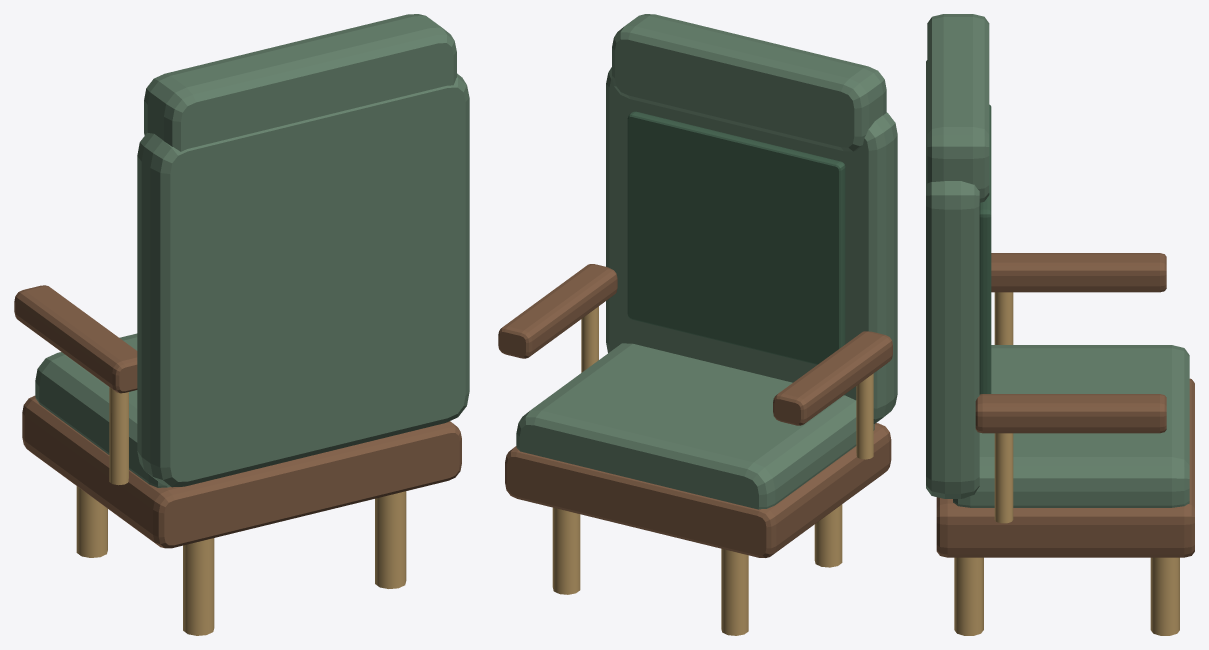
Rendered from seat_cafe.glb.
3 renders of one model, left to right at view 1: azimuth 30°, elevation 25°; view 2: azimuth 150°, elevation 25°; view 3: azimuth 270°, elevation 25°, orthographic. The views are drawn at different scales.
Visible parts, largest first — view 1: Upholstered backrest, Seat frame, Headrest, Tapered leg (×3), Armrest, Seat cushion, Arm support; view 2: Backrest inset, Seat cushion, Upholstered backrest, Headrest, Seat frame, Armrest (×2), Tapered leg (×3), Arm support (×2); view 3: Seat cushion, Upholstered backrest, Armrest (×2), Seat frame, Headrest, Tapered leg (×2), Arm support (×2), Backrest inset.
Boxes of the visible parts, x1,y1,x2,y2 form: Upholstered backrest: (137,73,469,487); Seat frame: (22,395,461,548); Headrest: (144,14,456,151); Tapered leg (×3): (76,486,406,635); Armrest: (14,285,137,393); Seat cushion: (35,333,169,487); Arm support: (109,387,128,485); Backrest inset: (627,111,845,364); Seat cushion: (516,343,874,509); Upholstered backrest: (606,67,897,423); Headrest: (612,14,886,151); Seat frame: (505,423,891,557); Armrest (×2): (498,264,892,425); Tapered leg (×3): (552,504,842,635); Arm support (×2): (581,306,873,459); Seat cushion: (953,345,1189,507); Upholstered backrest: (926,60,979,498); Armrest (×2): (975,253,1166,433); Seat frame: (936,378,1194,557); Headrest: (927,14,989,202); Tapered leg (×2): (954,557,1179,635); Arm support (×2): (994,292,1013,523); Backrest inset: (979,104,991,394).
Bounding box in the file's own units: 1.39 × 2.11 × 1.
